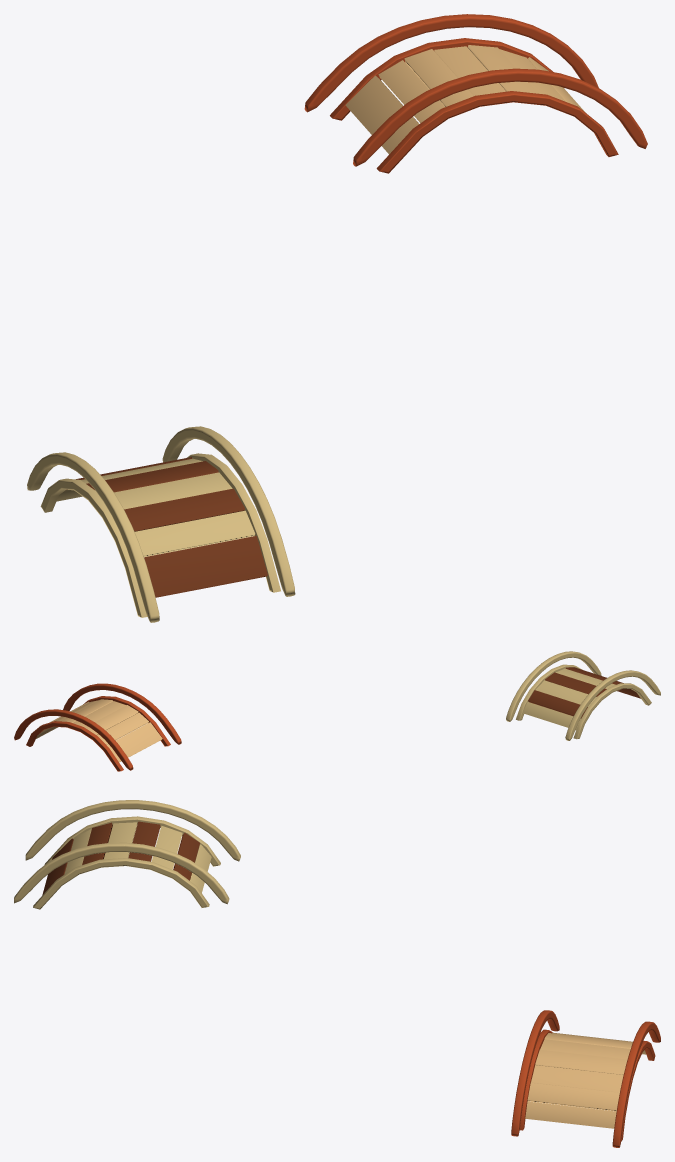
Rendered from Bridges.glb.
3 renders of one model, top to bottom at view 1: azimuth 30°, elevation 25°; view 2: azimuth 150°, elevation 25°; view 3: azimuth 270°, elevation 25°, orthographic. The views are drawn at different scales.
Visible parts, largest first — view 1: bridges; view 2: bridges; view 3: bridges.
Boxes of the visible parts, <box> form: bridges: <box>27,14,647,622</box>; bridges: <box>14,651,660,771</box>; bridges: <box>14,800,660,1147</box>.
Size of the model in its own units: 0.2003 by 0.0261 by 0.1844.
